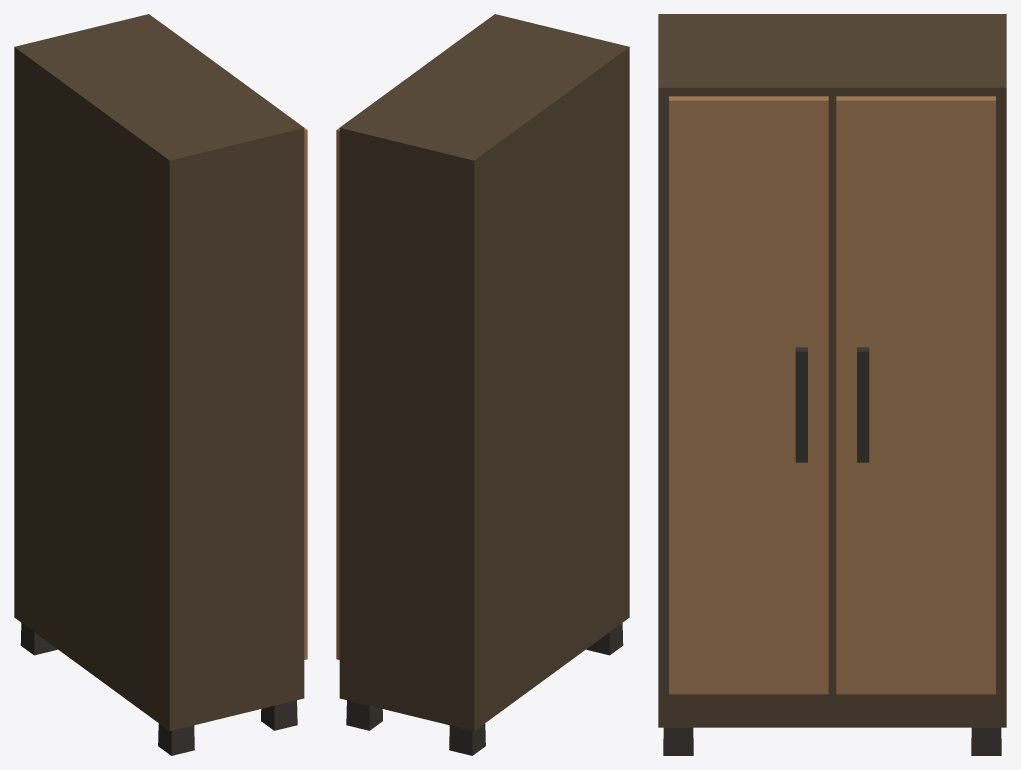
File: SM_Wardrobe_01.glb
3 views of the same model, side by side, from view 1: azimuth 30°, elevation 25°; view 2: azimuth 150°, elevation 25°; view 3: azimuth 270°, elevation 25° (orthographic). The views are drawn at different scales.
Visible parts, largest first — view 1: SM_Wardrobe_01; view 2: SM_Wardrobe_01; view 3: SM_Wardrobe_01.
Boxes of the visible parts, bbox=[...] form: SM_Wardrobe_01: bbox=[14, 14, 307, 755]; SM_Wardrobe_01: bbox=[336, 14, 629, 755]; SM_Wardrobe_01: bbox=[658, 14, 1006, 755].
Size of the model in its own units: 0.6163 by 2.25 by 1.06.
Materials: 1 (1 with a texture image).
